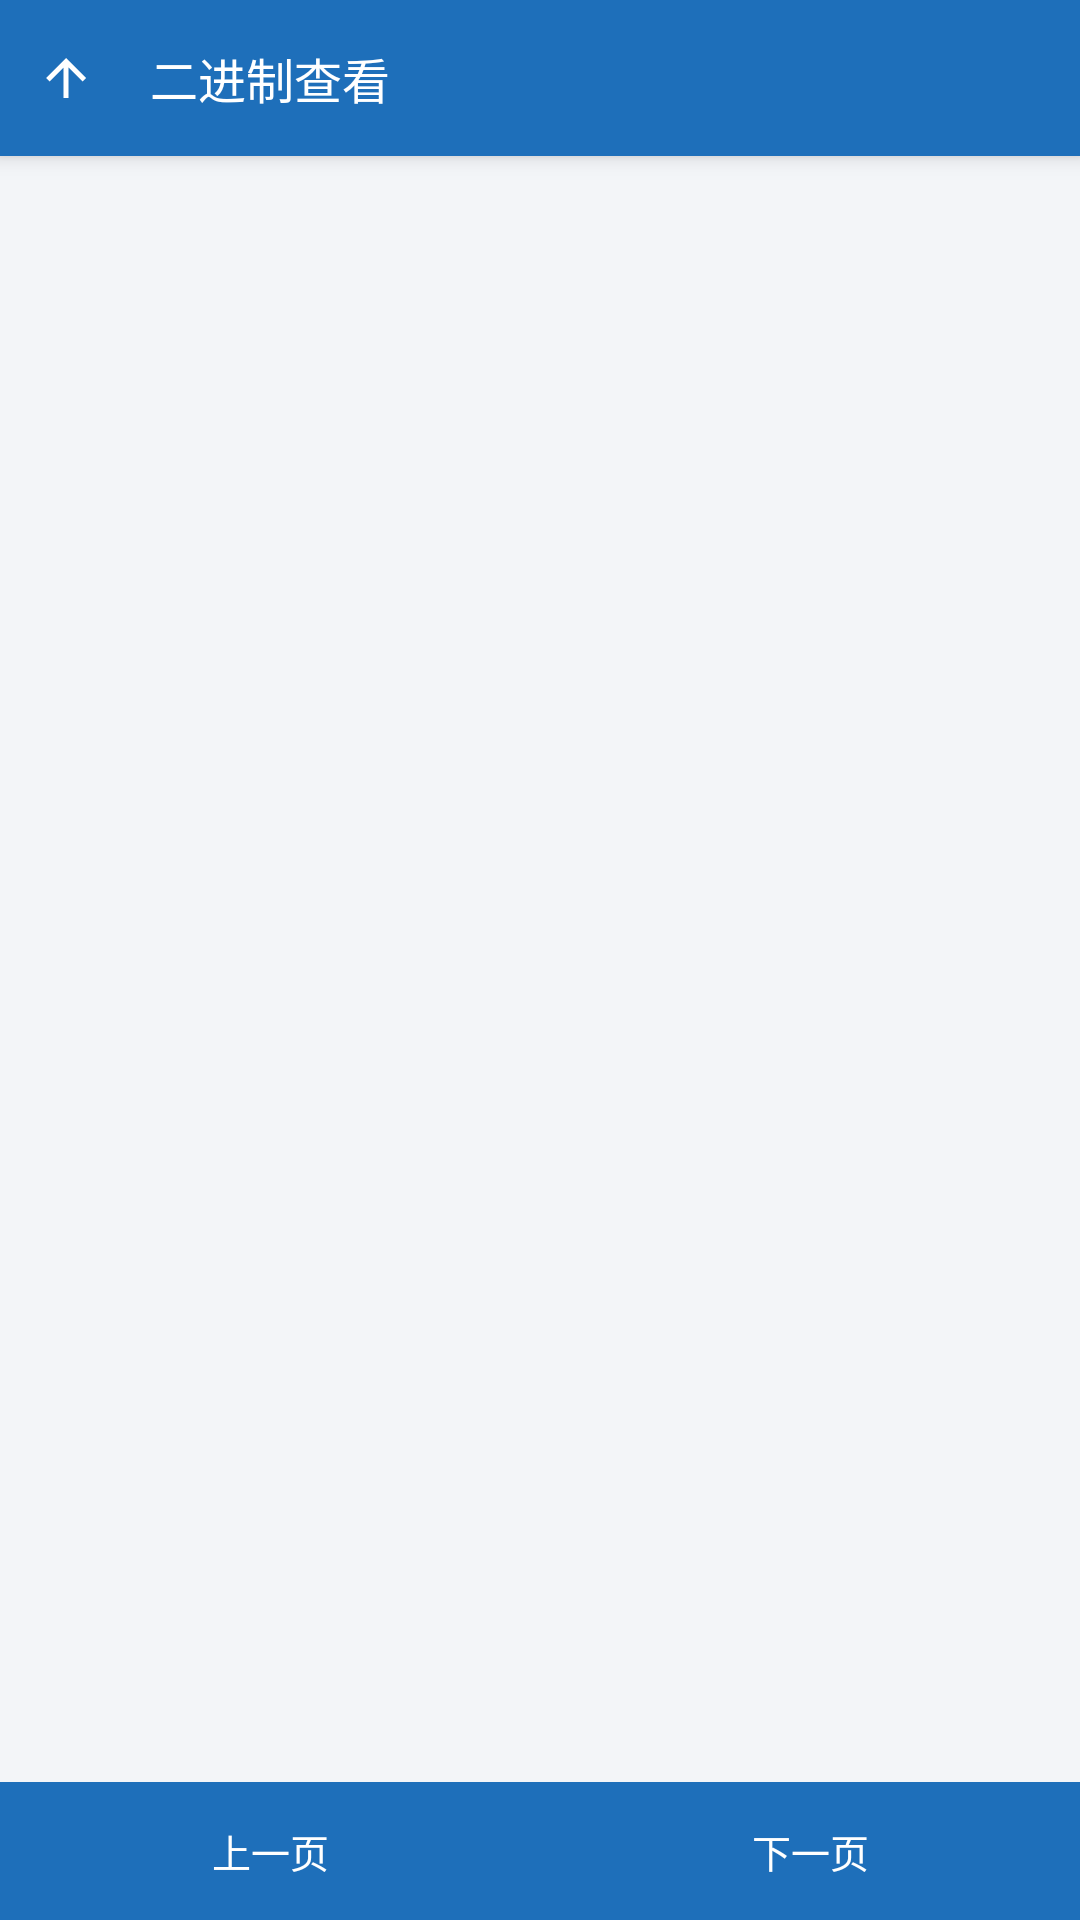

Icons on this 1080px x 1920px Android screen, each with its box as (x1, y1, x2, y2):
返回: (46, 58, 86, 98)
